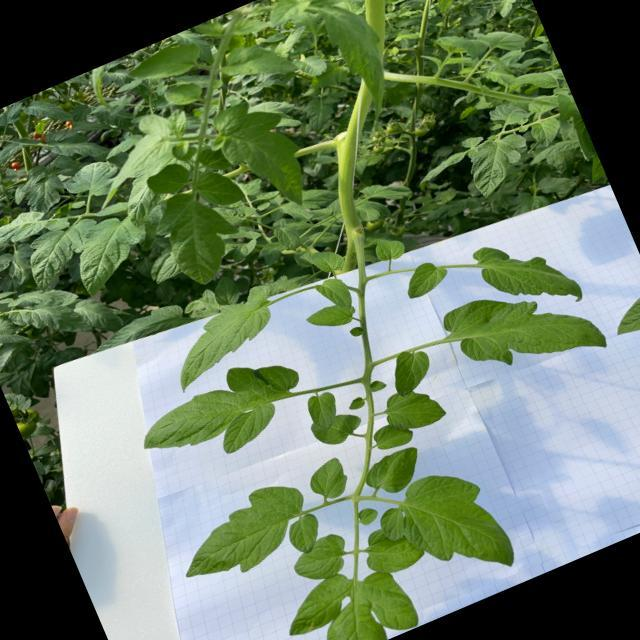Tomato healthy leaf: (128, 343, 318, 484), (438, 258, 610, 402), (368, 454, 520, 608), (164, 470, 329, 600), (198, 87, 322, 229), (154, 280, 296, 393), (470, 217, 586, 332), (145, 176, 253, 294), (75, 108, 190, 210), (316, 0, 409, 125), (63, 208, 157, 298), (4, 276, 96, 360), (20, 212, 114, 292), (84, 296, 192, 362), (460, 127, 540, 200), (215, 27, 298, 96), (356, 514, 428, 582), (123, 36, 205, 94), (359, 442, 430, 502), (286, 528, 356, 588), (380, 384, 448, 439), (60, 154, 125, 208), (48, 122, 114, 173), (383, 342, 439, 398), (308, 404, 366, 452), (193, 162, 246, 214), (72, 289, 124, 342), (296, 89, 350, 137), (358, 170, 414, 216), (302, 455, 353, 505), (22, 89, 74, 138), (398, 253, 452, 300), (276, 180, 339, 220), (0, 204, 50, 253), (303, 296, 359, 338), (143, 158, 195, 202), (478, 18, 530, 62), (172, 23, 216, 74), (514, 59, 566, 100), (302, 386, 346, 434), (412, 149, 469, 186), (604, 284, 640, 341), (486, 92, 536, 132), (313, 272, 355, 317), (370, 416, 417, 454), (268, 24, 314, 61), (528, 112, 567, 150), (163, 76, 205, 111), (308, 242, 347, 278), (100, 130, 146, 160), (371, 230, 409, 266), (536, 167, 576, 200), (208, 272, 244, 308), (292, 48, 330, 82), (146, 250, 184, 284), (0, 318, 31, 357), (272, 220, 304, 254), (549, 89, 580, 122), (282, 197, 315, 226), (164, 106, 192, 139), (306, 224, 340, 250), (254, 236, 288, 261), (230, 237, 262, 263), (94, 198, 130, 221), (0, 100, 28, 128), (354, 198, 382, 226), (0, 138, 27, 164), (306, 201, 334, 223), (42, 214, 70, 235), (292, 246, 316, 270), (235, 198, 258, 220), (254, 185, 280, 203), (460, 132, 484, 150), (242, 226, 262, 242), (0, 285, 18, 301)
